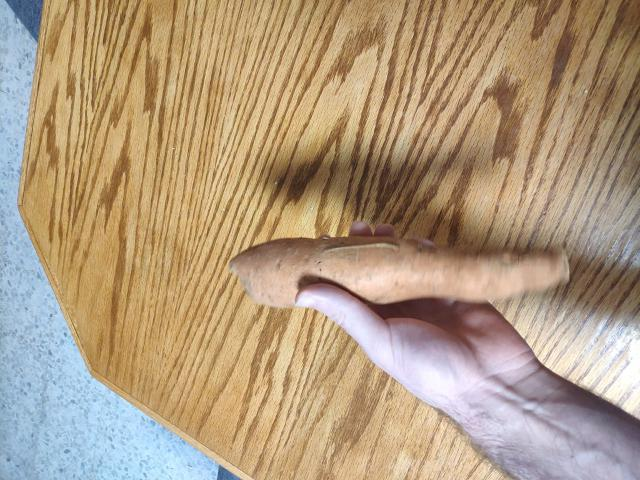sweet_potato: (246, 225, 569, 321)
